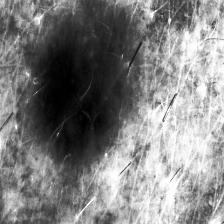Benign Marking or Mole: (24, 0, 126, 162)
